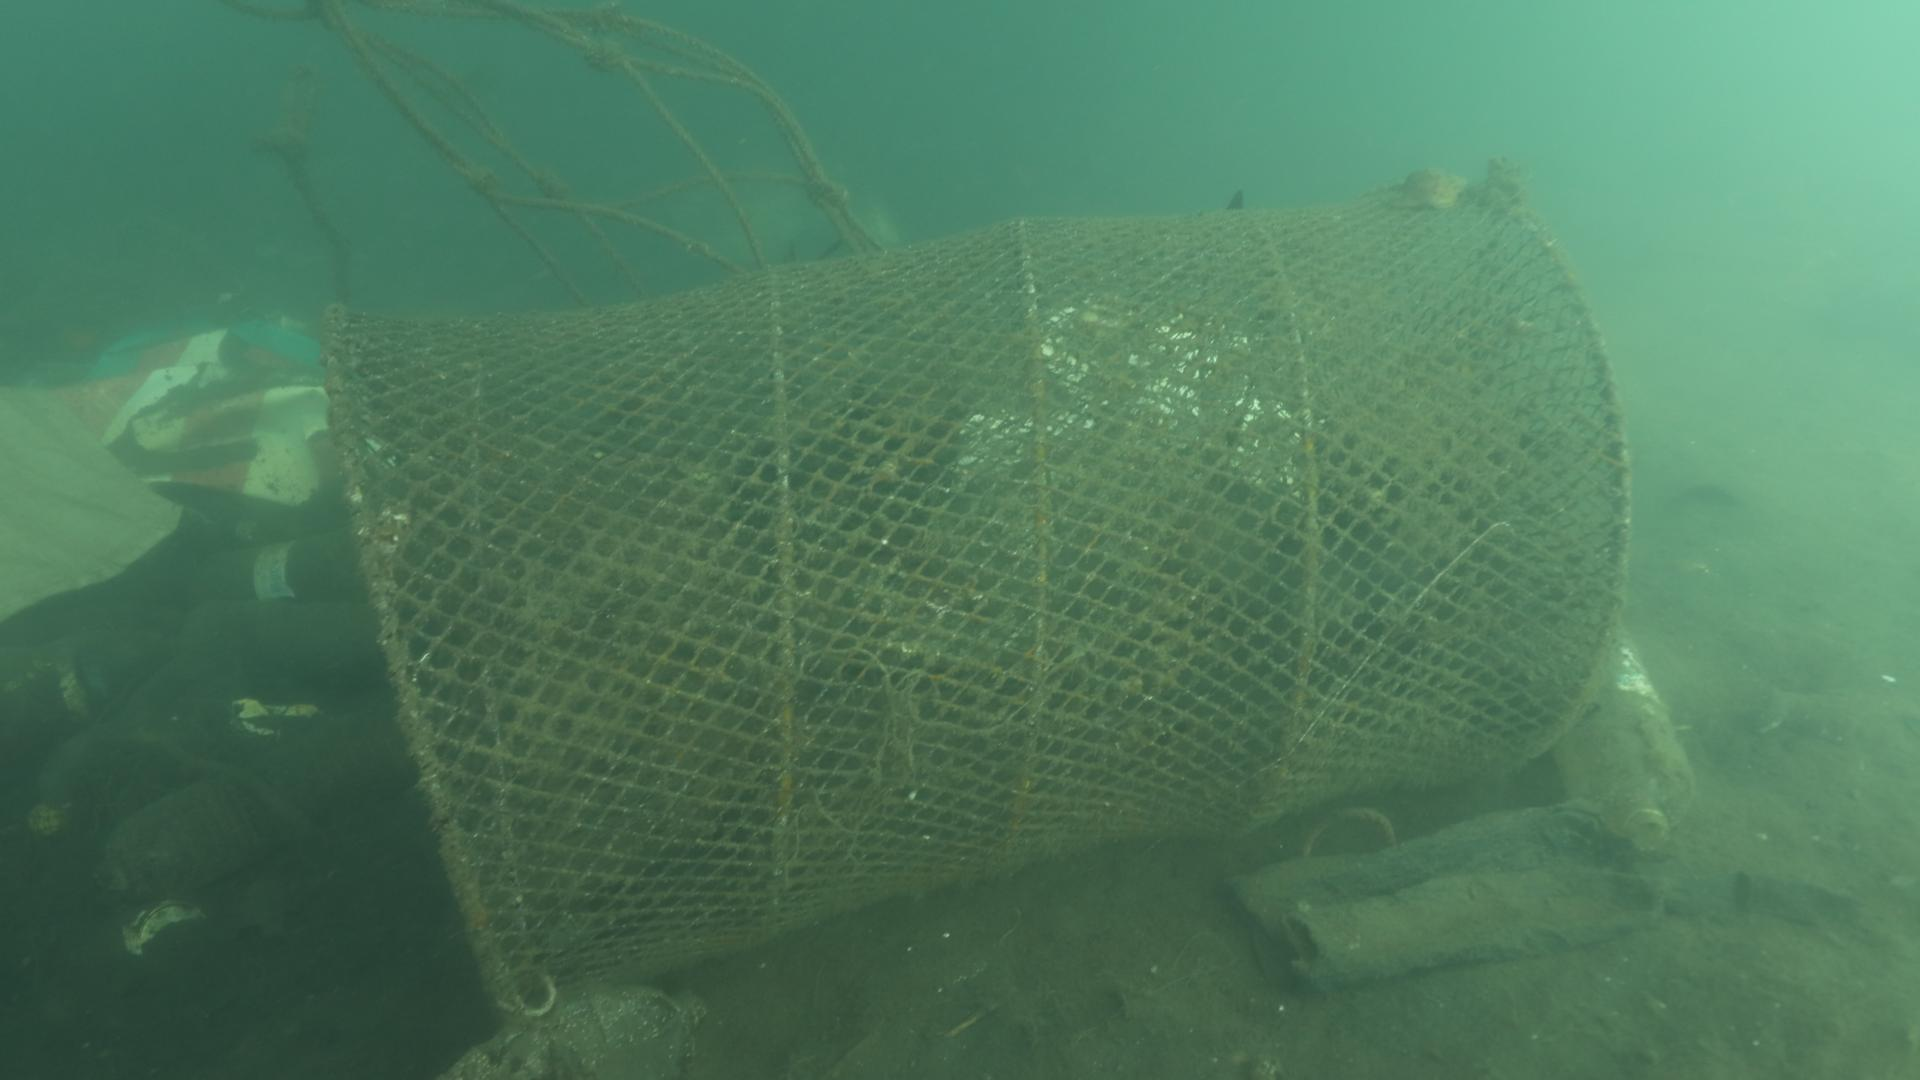bundle of ropes: (227, 0, 887, 306)
spring fish trap: (322, 179, 1633, 1030)
